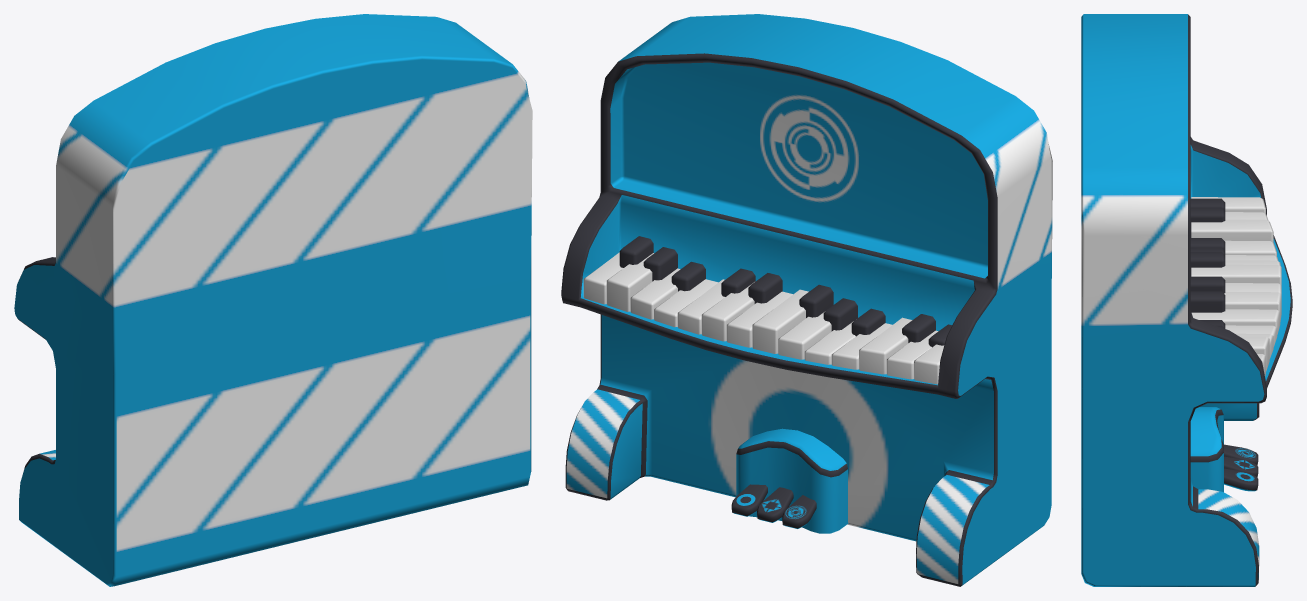
Rendered from Mesh_Resto_piano.fbx.
3 views of the same model, side by side, from view 1: azimuth 30°, elevation 25°; view 2: azimuth 150°, elevation 25°; view 3: azimuth 270°, elevation 25° (orthographic). The views are drawn at different scales.
Visible parts, largest first — view 1: piano; view 2: piano; view 3: piano.
Part boxes in pixels (x1,y1,x2,y2): piano: [14, 14, 532, 586]; piano: [561, 14, 1052, 586]; piano: [1081, 14, 1292, 586].
Size of the model in its own units: 74.91 by 80.49 by 35.79.
